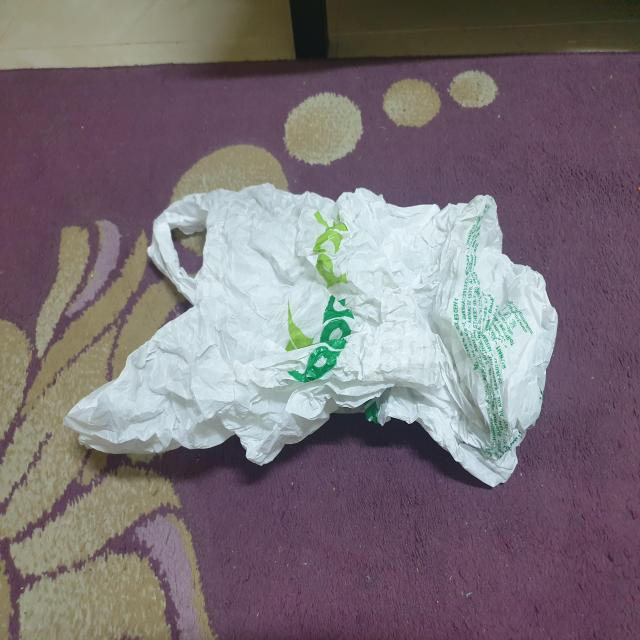plastic bag: (63, 181, 558, 490)
